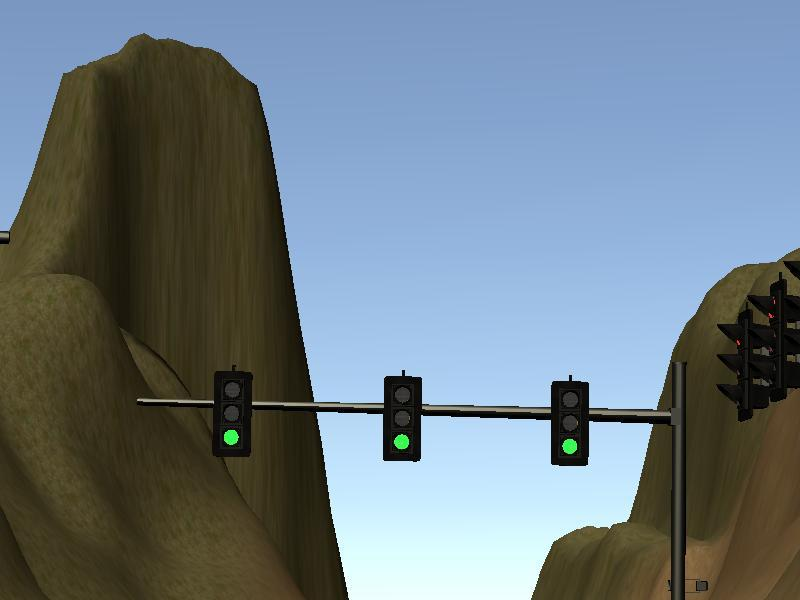Green: (385, 377, 422, 459), (216, 372, 251, 457), (553, 383, 588, 465)
